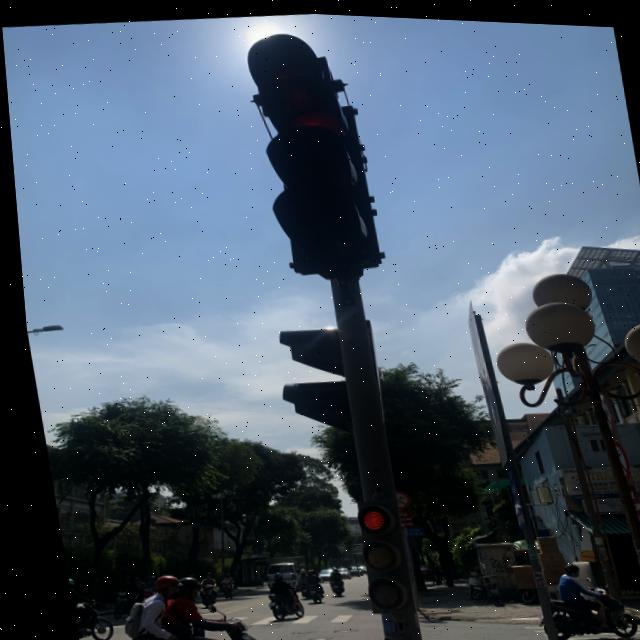Red: (233, 76, 392, 284)
